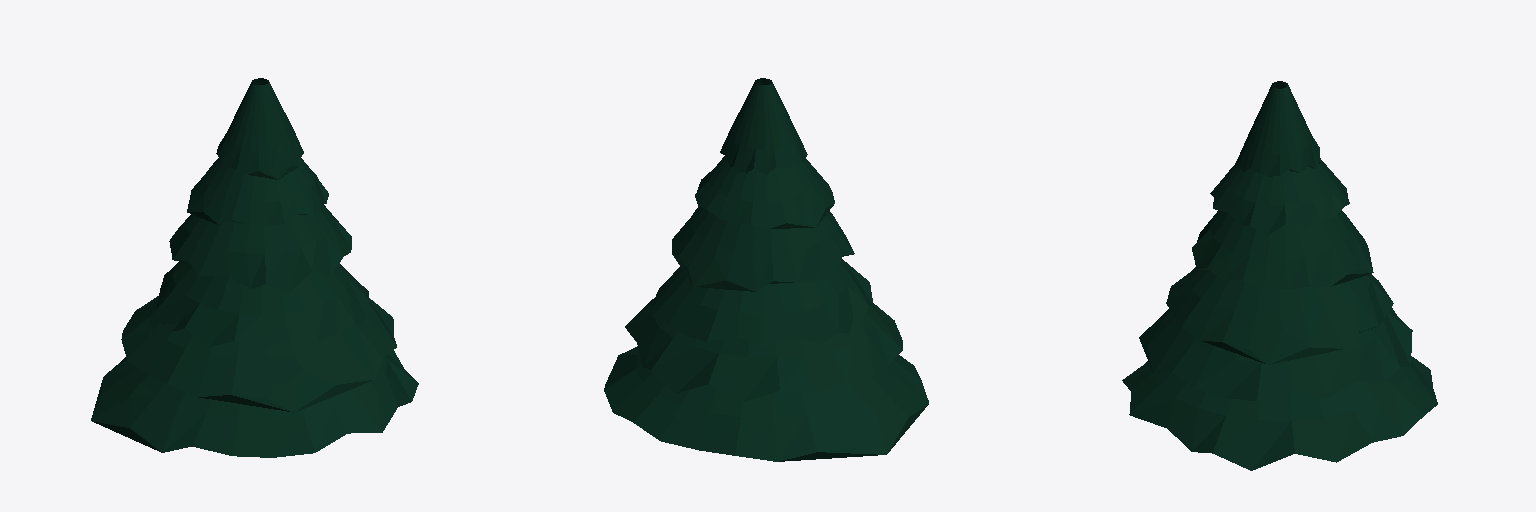
Rendered from tree1.obj.
The picture shows the model from 3 angles: view 1: azimuth 30°, elevation 25°; view 2: azimuth 150°, elevation 25°; view 3: azimuth 270°, elevation 25°; orthographic projection.
Parts seen in each view (by area): view 1: Cone006, Cone005, Cone004, Cone003, Cone002, Cone001; view 2: Cone006, Cone005, Cone004, Cone003, Cone002, Cone001; view 3: Cone006, Cone004, Cone005, Cone003, Cone002, Cone001.
Part boxes in pixels (bbox=[...]): Cone006: bbox=[91, 350, 418, 457]; Cone005: bbox=[121, 296, 396, 412]; Cone004: bbox=[155, 261, 369, 347]; Cone003: bbox=[169, 204, 351, 292]; Cone002: bbox=[187, 158, 328, 226]; Cone001: bbox=[216, 78, 303, 179]; Cone006: bbox=[604, 346, 928, 461]; Cone005: bbox=[625, 298, 902, 401]; Cone004: bbox=[650, 259, 872, 347]; Cone003: bbox=[672, 207, 854, 291]; Cone002: bbox=[695, 156, 834, 228]; Cone001: bbox=[720, 78, 807, 175]; Cone006: bbox=[1122, 356, 1437, 470]; Cone004: bbox=[1166, 267, 1393, 364]; Cone005: bbox=[1139, 307, 1412, 400]; Cone003: bbox=[1192, 210, 1373, 288]; Cone002: bbox=[1210, 160, 1349, 235]; Cone001: bbox=[1235, 81, 1320, 176].
Size of the model in its own units: 1.67 by 1.94 by 1.61.